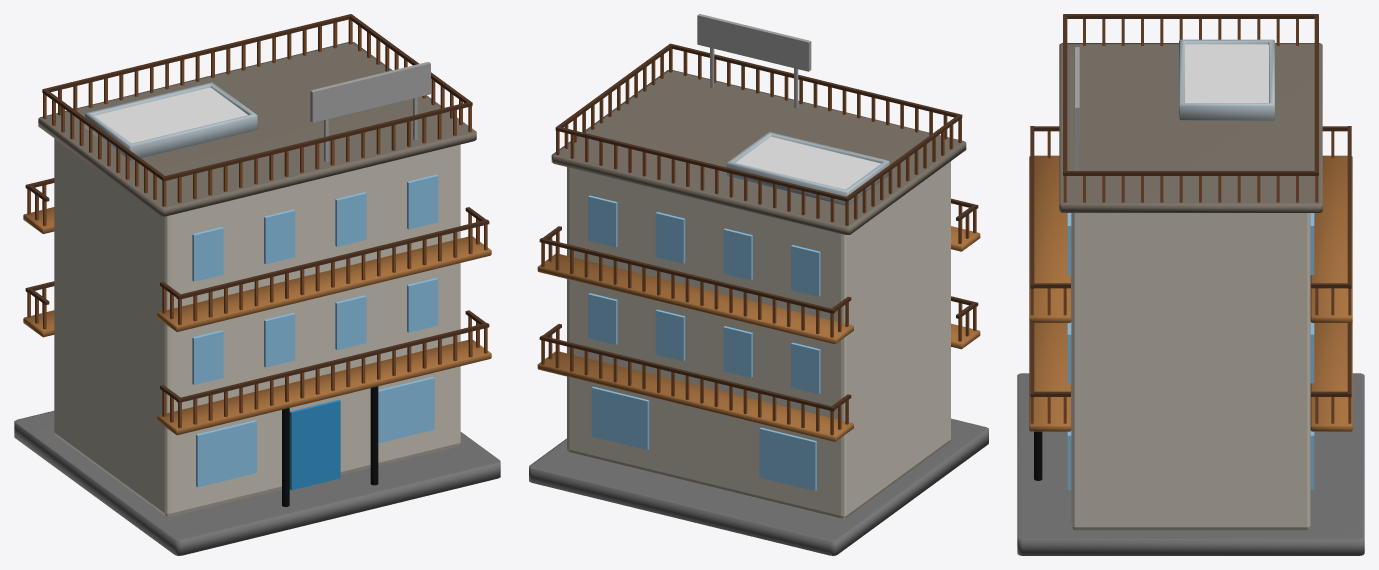
Rendered from hotel3merge.fbx.
The picture shows the model from 3 angles, left to right: view 1: azimuth 30°, elevation 25°; view 2: azimuth 150°, elevation 25°; view 3: azimuth 270°, elevation 25°; orthographic projection. The views are drawn at different scales.
Visible parts, largest first — view 1: alap, neontalp, tetoviz, tetomedence; view 2: alap, neontalp, tetoviz, tetomedence; view 3: alap, tetoviz, tetomedence, neontalp.
Part boxes in pixels (x1,y1,x2,y2): alap: (14, 14, 500, 555); neontalp: (310, 62, 430, 161); tetoviz: (94, 87, 247, 143); tetomedence: (85, 82, 257, 160); alap: (529, 43, 988, 555); neontalp: (697, 14, 811, 108); tetoviz: (735, 137, 880, 189); tetomedence: (726, 131, 889, 205); alap: (1017, 14, 1364, 555); tetoviz: (1185, 44, 1268, 102); tetomedence: (1179, 39, 1274, 120); neontalp: (1074, 47, 1079, 177).
Size of the model in its own units: 6.6 by 7.85 by 5.8.
Materials: 2 (1 with a texture image).
